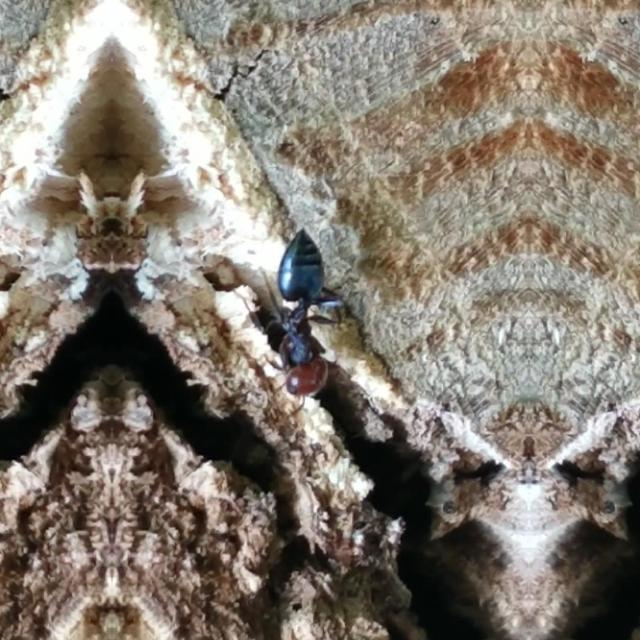Crematogaster: (252, 218, 346, 402)
